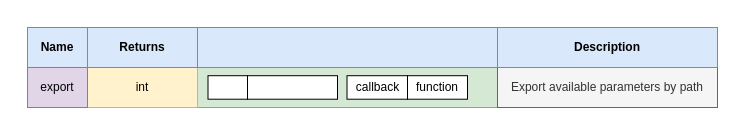
The diagram is 744 pixels wide and 134 high, and some of its shapes have lost their labels. The shapes that lost their labels are listed below. From the top down, each one's box as (x1, y1, x2, y2) in pixels, then its label:
(196, 26, 498, 68): Parameters
(207, 75, 248, 99): path
(246, 75, 338, 99): Registry Path
